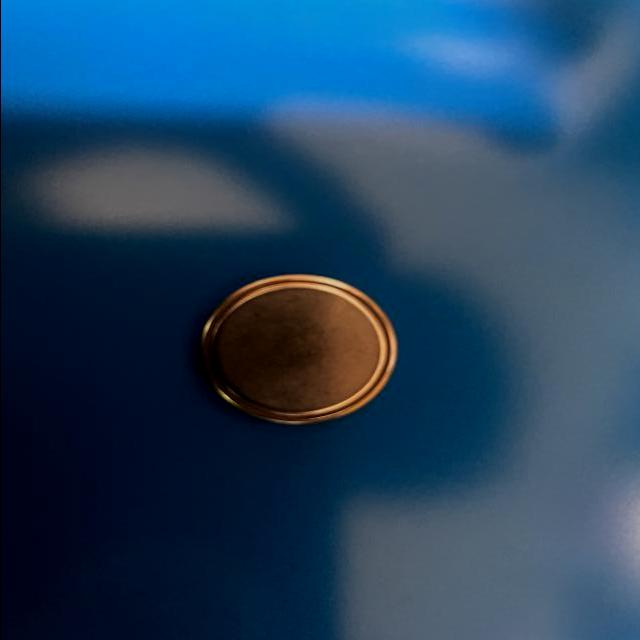COIN: (192, 272, 398, 424)
